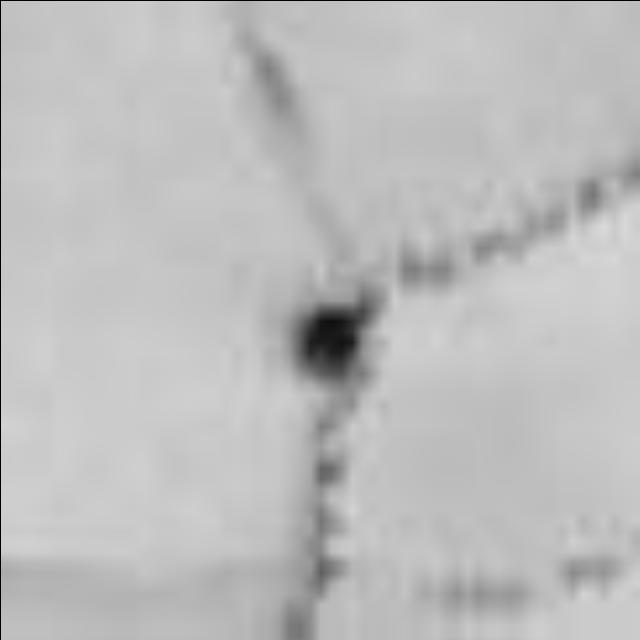good_void: (295, 299, 370, 382)
